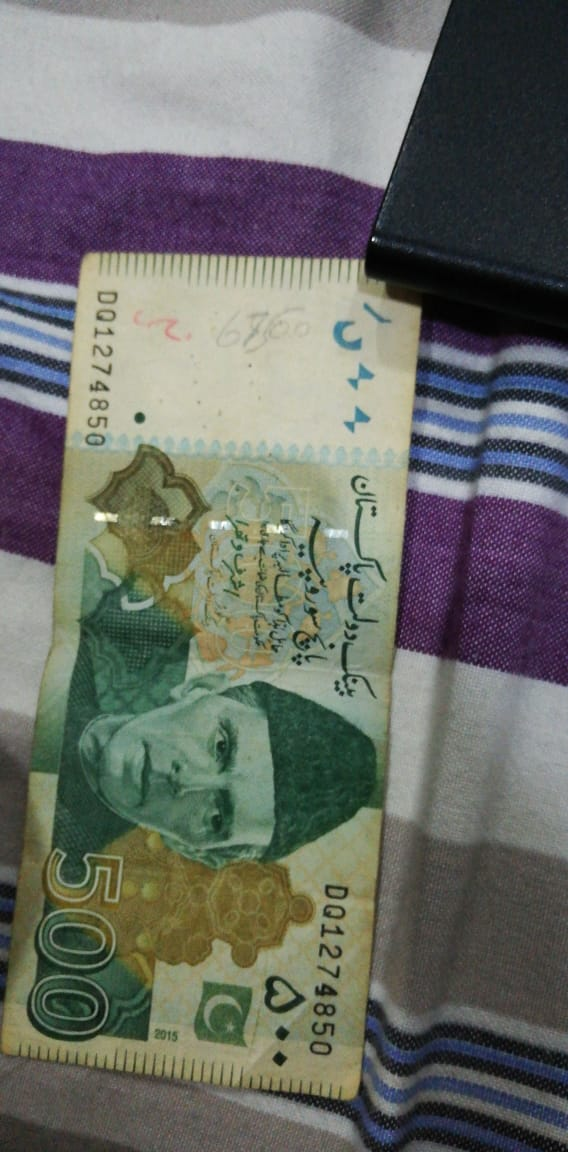500 rupee: (12, 230, 426, 1086)
